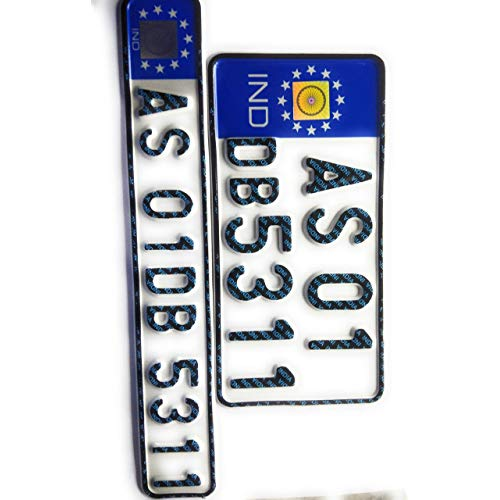number_plate: (205, 52, 382, 407), (114, 1, 216, 499)
